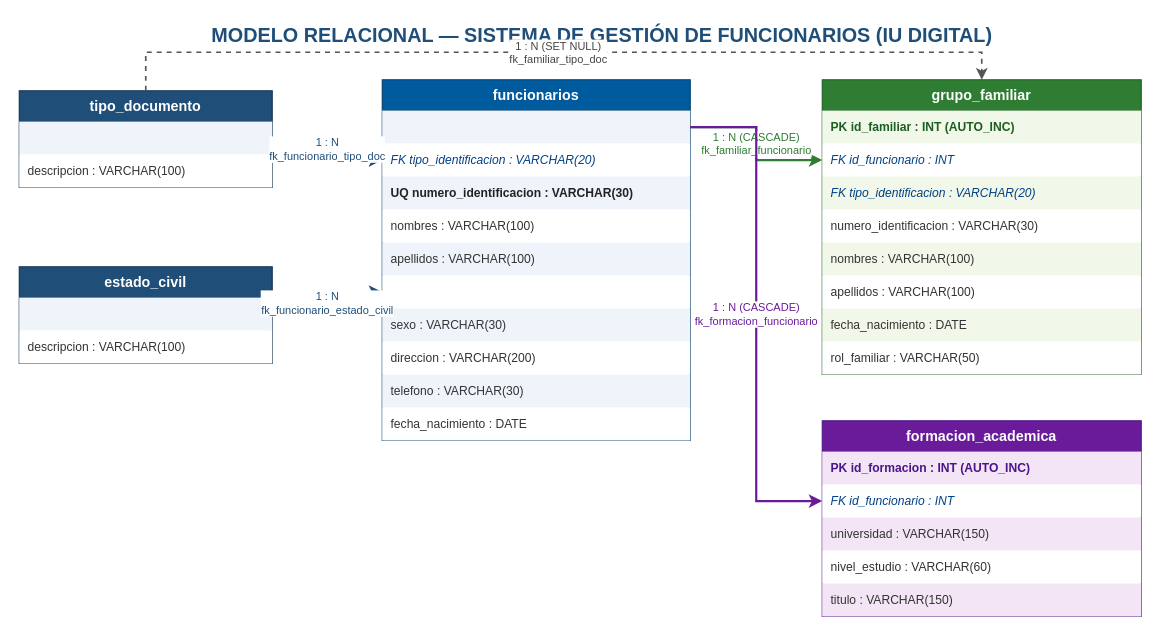
This 1161x636 diagram has some shape labels left out. Each missing label, with the centre of its shape:
FK estado_civil : VARCHAR(30): point (536, 291)
PK codigo : VARCHAR(20): point (145, 137)
PK codigo : VARCHAR(30): point (145, 313)
PK id_funcionario : INT (AUTO_INC): point (536, 126)
